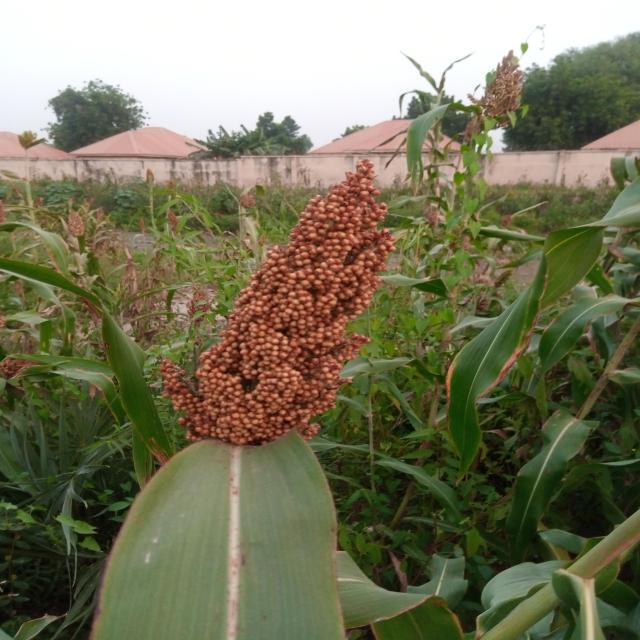RipeSorghum: (137, 150, 398, 476)
